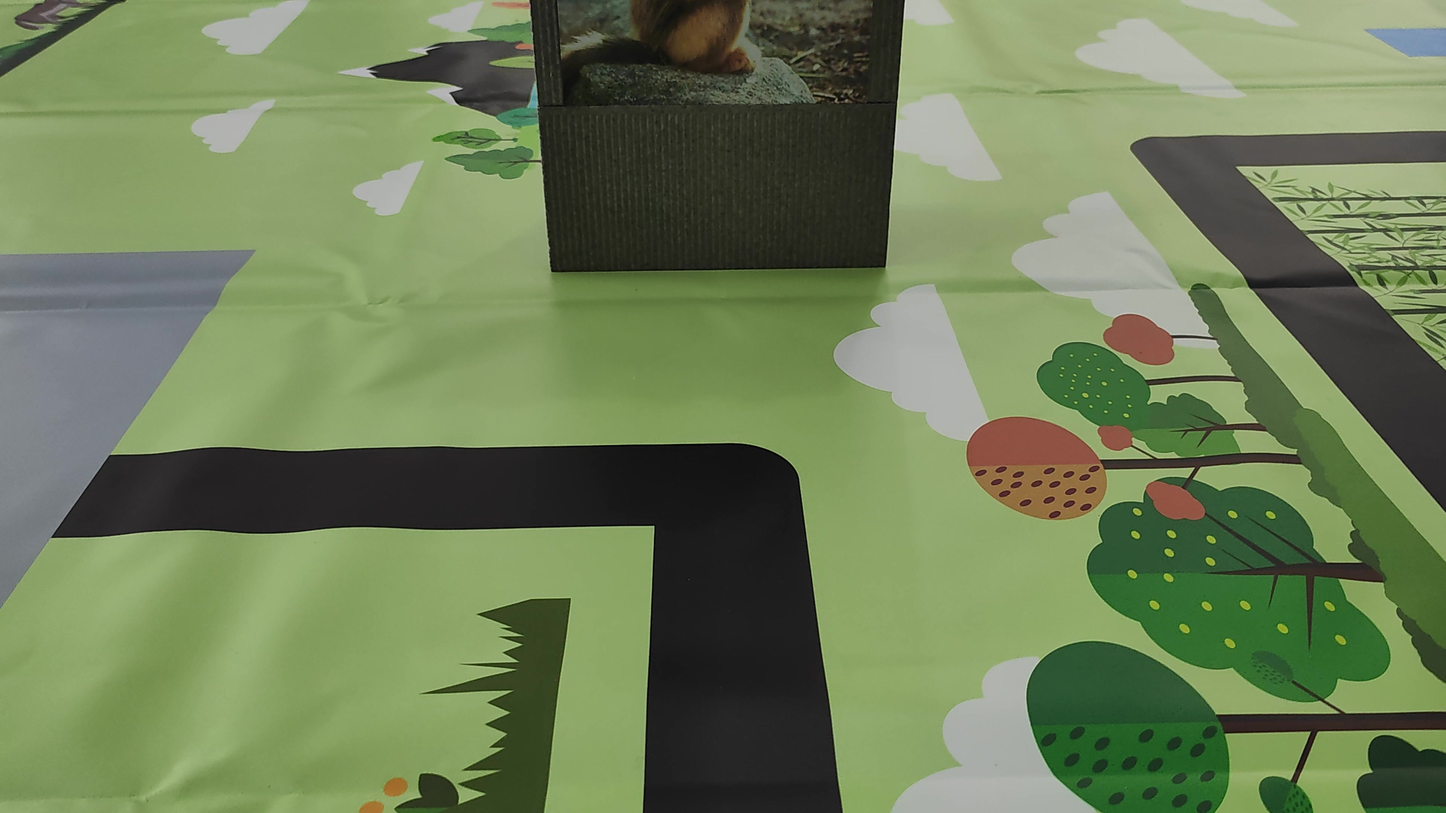monkey: (610, 3, 814, 116)
